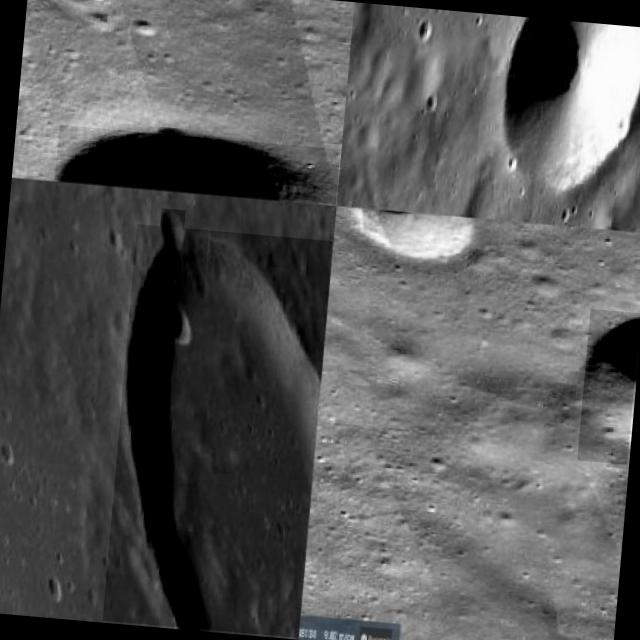crater: (102, 223, 332, 638), (495, 15, 640, 202), (54, 124, 340, 204), (576, 308, 640, 464), (352, 208, 474, 265), (158, 208, 185, 252)
